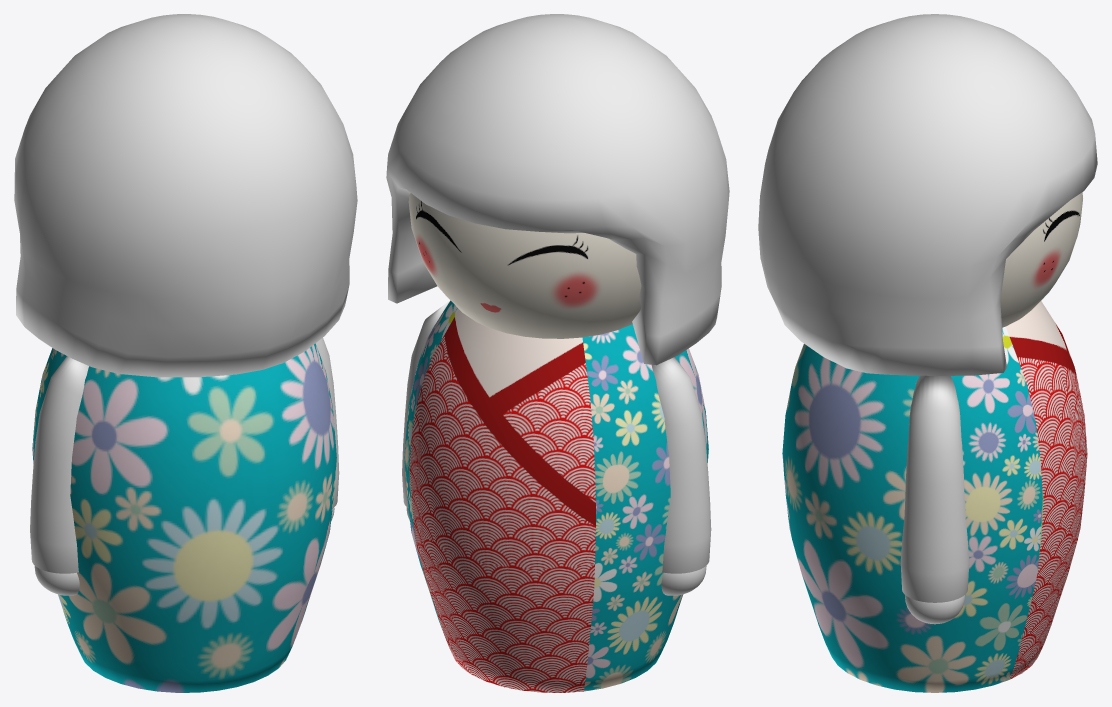
File: Kimmidoll_F.fbx
The picture shows the model from 3 angles, left to right: view 1: azimuth 30°, elevation 25°; view 2: azimuth 150°, elevation 25°; view 3: azimuth 270°, elevation 25°; orthographic projection.
Parts seen in each view (by area): view 1: Hair, Body, ArmL, HandL, ArmR; view 2: Body, Hair, FaceF, ArmL, ArmR, HandL; view 3: Hair, Body, ArmR, FaceF, HandR.
Part boxes in pixels (x1,y1,x2,y2): Hair: (14, 14, 357, 377); Body: (32, 343, 336, 692); ArmL: (30, 356, 88, 573); HandL: (34, 566, 79, 595); ArmR: (315, 338, 339, 507); Body: (404, 300, 708, 692); Hair: (386, 14, 729, 365); FaceF: (408, 193, 641, 338); ArmL: (651, 357, 711, 573); ArmR: (402, 300, 450, 508); HandL: (661, 565, 706, 595); Hair: (758, 14, 1097, 375); Body: (782, 301, 1087, 692); ArmR: (900, 375, 969, 602); FaceF: (1000, 192, 1082, 327); HandR: (905, 595, 964, 624).
Bounding box in the file's own units: 200 × 394 × 196.
